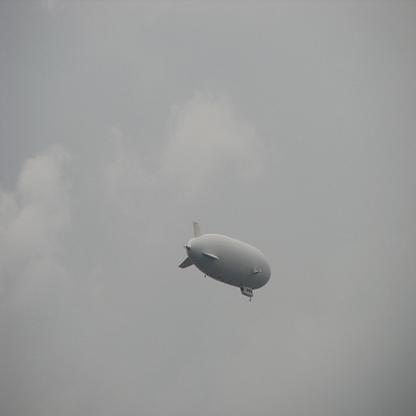Airship: (176, 223, 276, 304)
